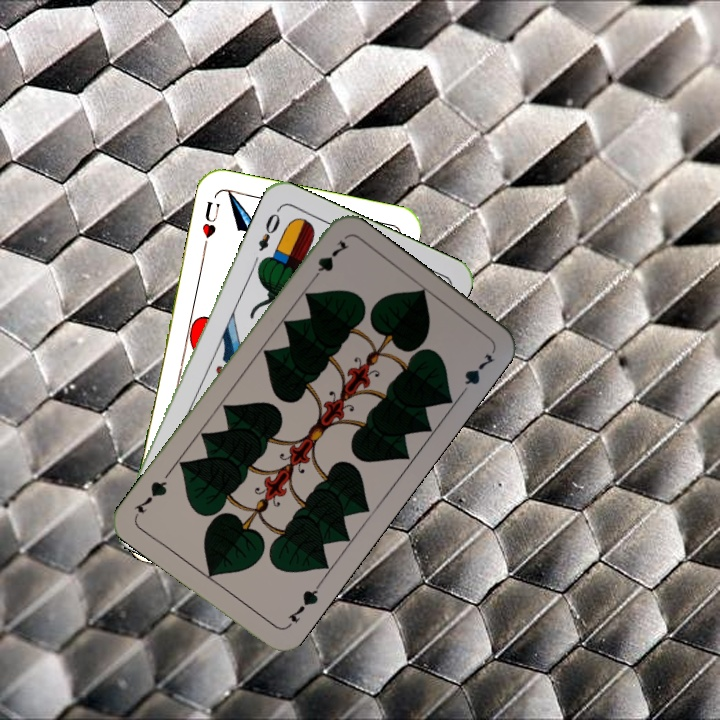EO: (254, 204, 283, 254)
G7: (306, 235, 352, 286), (282, 579, 323, 630)
HU: (198, 197, 223, 251)
